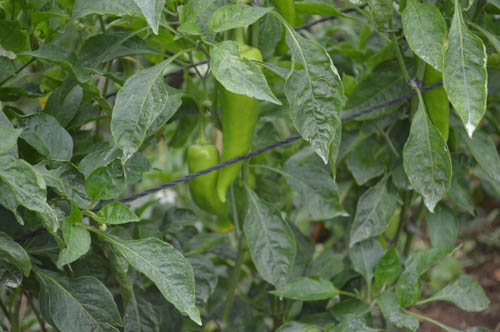ChiliPepper: (219, 49, 265, 207), (187, 145, 225, 210)
